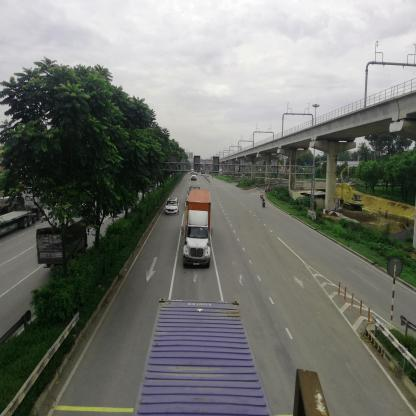car: (167, 199, 181, 217)
container: (184, 190, 213, 270), (191, 171, 198, 181)
motorbike: (262, 200, 266, 208), (261, 193, 266, 199)
truck: (36, 219, 91, 269)
